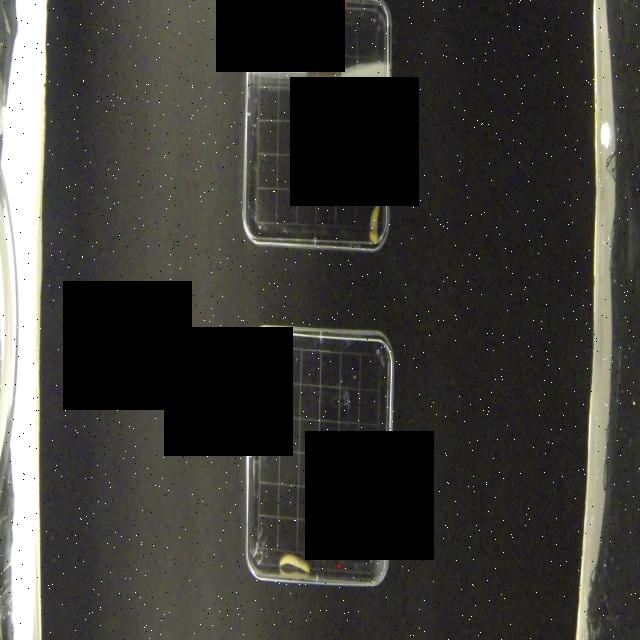larva: (277, 550, 312, 574), (368, 199, 382, 245)
